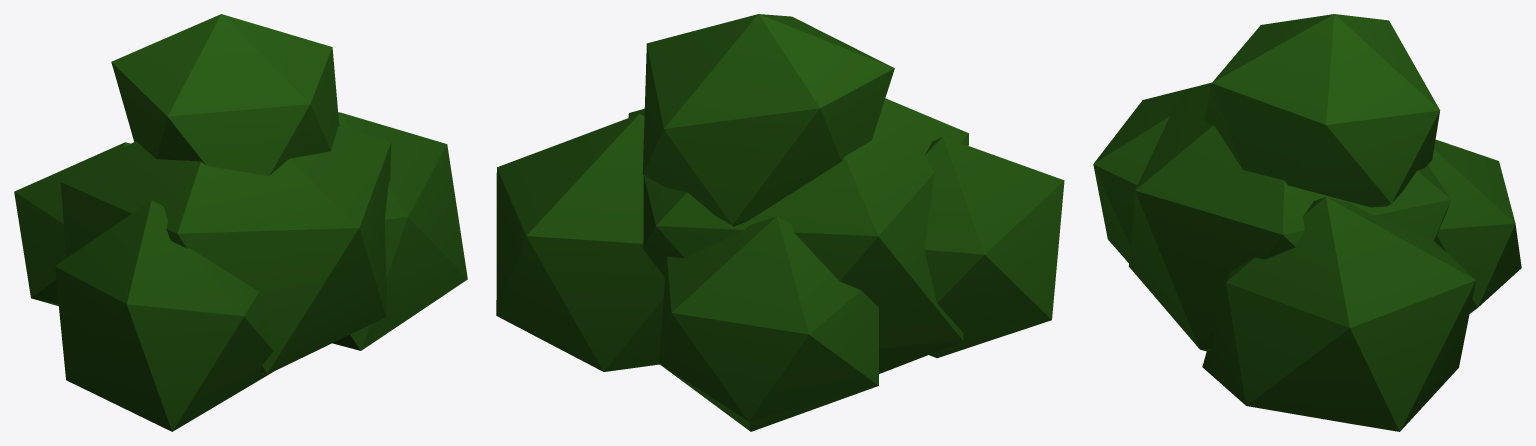
Rendered from bush.glb.
3 views of the same model, side by side, from view 1: azimuth 30°, elevation 25°; view 2: azimuth 150°, elevation 25°; view 3: azimuth 270°, elevation 25° (orthographic). The views are drawn at different scales.
Parts seen in each view (by area): view 1: bush; view 2: bush; view 3: bush.
Part boxes in pixels (x1,y1,x2,y2): bush: [14, 14, 467, 431]; bush: [496, 14, 1064, 431]; bush: [1093, 14, 1521, 431].
Size of the model in its own units: 0.605 by 0.4736 by 0.4912.
